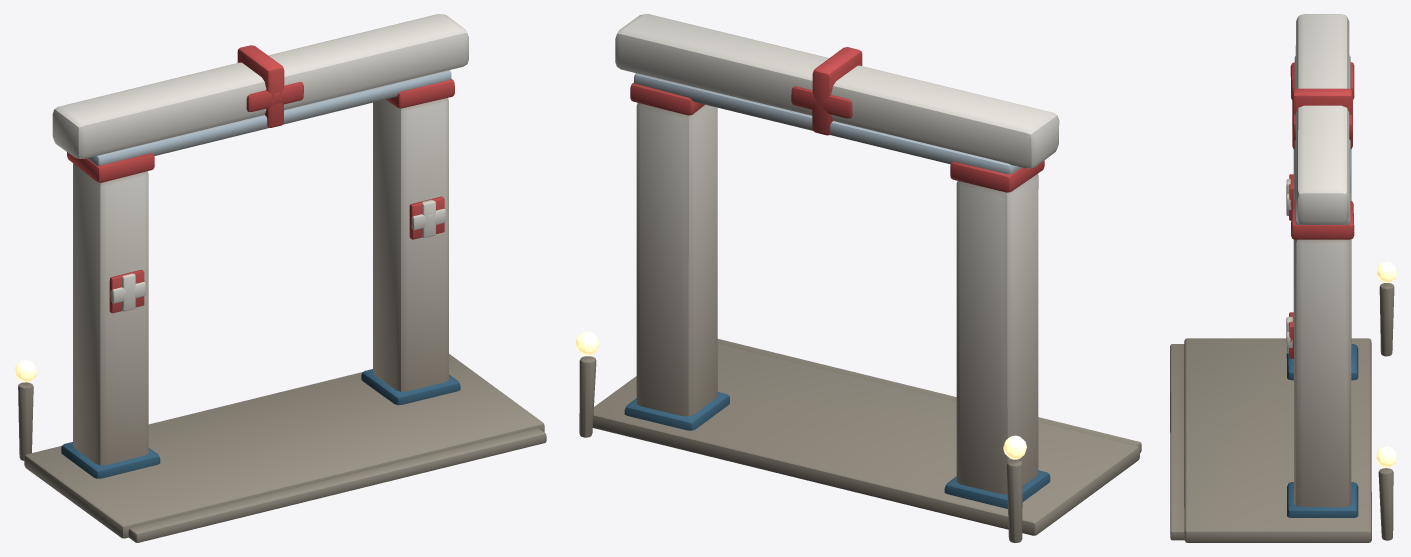
The picture shows the model from 3 angles, left to right: view 1: azimuth 30°, elevation 25°; view 2: azimuth 150°, elevation 25°; view 3: azimuth 270°, elevation 25°; orthographic projection. The views are drawn at different scales.
Visible parts, largest first — view 1: gate_94ab2aa9; view 2: gate_94ab2aa9; view 3: gate_94ab2aa9.
Boxes of the visible parts, x1=… form: gate_94ab2aa9: x1=14, y1=14, x2=546, y2=542; gate_94ab2aa9: x1=575, y1=14, x2=1141, y2=542; gate_94ab2aa9: x1=1170, y1=14, x2=1396, y2=542.
Bounding box in the file's own units: 5.17 × 4.41 × 2.55.
